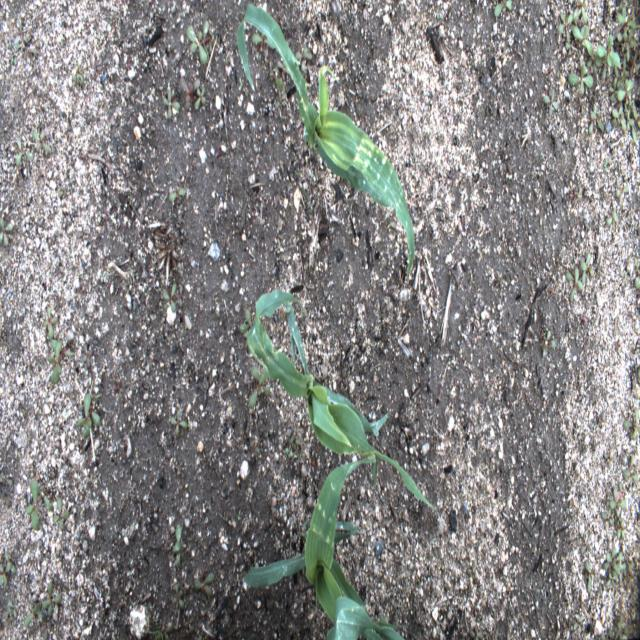crop: (237, 3, 415, 279), (246, 290, 437, 513), (243, 454, 407, 639)
weed: (25, 478, 53, 531), (187, 20, 216, 65), (46, 341, 76, 384), (594, 33, 620, 80), (609, 105, 639, 143), (246, 365, 271, 410), (250, 22, 278, 58), (78, 394, 100, 439), (568, 56, 594, 94), (603, 546, 627, 582), (42, 580, 64, 619), (616, 6, 638, 43), (571, 24, 594, 59), (558, 6, 578, 44), (179, 76, 200, 112), (564, 267, 583, 306), (609, 76, 634, 104), (622, 406, 640, 442), (23, 602, 46, 629), (0, 550, 17, 586), (51, 496, 69, 530), (162, 87, 180, 120), (16, 136, 34, 168), (587, 104, 605, 135), (608, 487, 626, 518), (580, 252, 595, 288), (168, 410, 187, 438), (42, 306, 58, 339), (194, 572, 214, 598), (31, 128, 50, 155), (622, 453, 638, 484), (615, 56, 629, 91), (240, 308, 256, 336), (172, 526, 182, 569), (162, 282, 176, 312), (544, 86, 558, 116), (600, 504, 614, 534), (616, 177, 629, 208), (296, 47, 312, 72), (0, 218, 13, 247), (277, 56, 292, 81), (586, 49, 602, 72), (172, 584, 186, 610), (194, 85, 207, 112), (493, 0, 512, 18), (582, 558, 592, 592), (146, 628, 170, 640), (606, 207, 618, 231), (169, 187, 186, 203), (276, 90, 288, 109), (40, 620, 51, 640), (617, 517, 625, 540), (7, 600, 17, 618), (607, 572, 618, 588)
